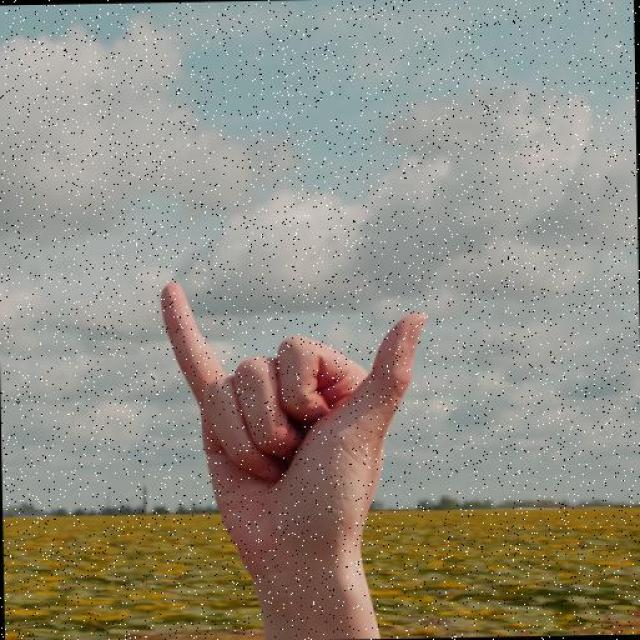Y: (156, 274, 435, 576)
